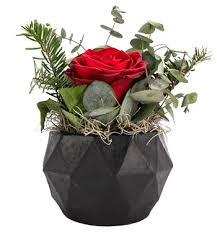Rose: (64, 41, 150, 102)
